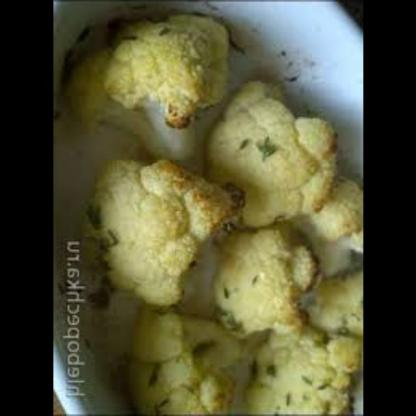cayliflower: (86, 155, 250, 309), (200, 76, 341, 228), (89, 3, 230, 130), (118, 301, 246, 416), (215, 219, 326, 335), (243, 312, 363, 416), (298, 169, 364, 258), (302, 258, 363, 341)
